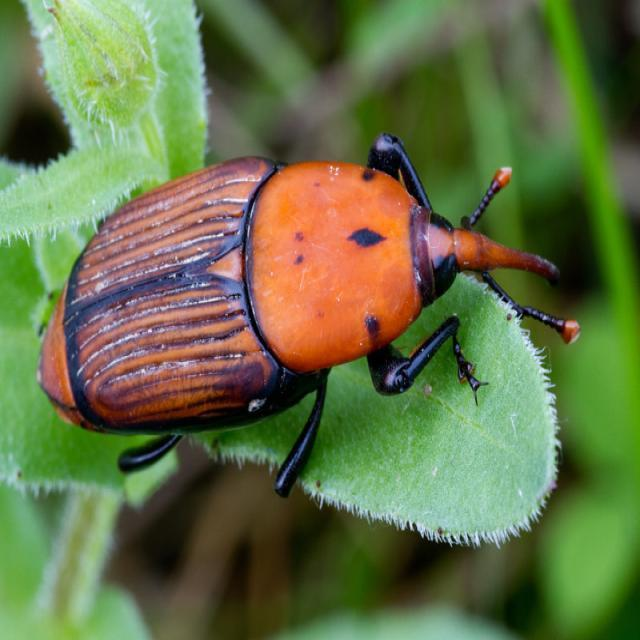Red-palm-weevil: (47, 123, 581, 531)
